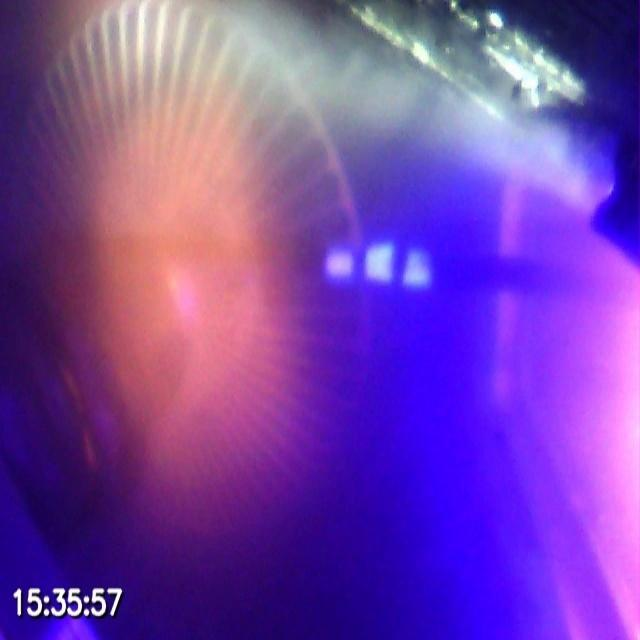white-dots: (324, 241, 431, 290)
